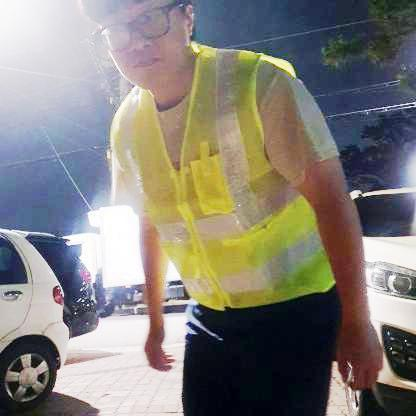vest: (97, 40, 335, 310)
